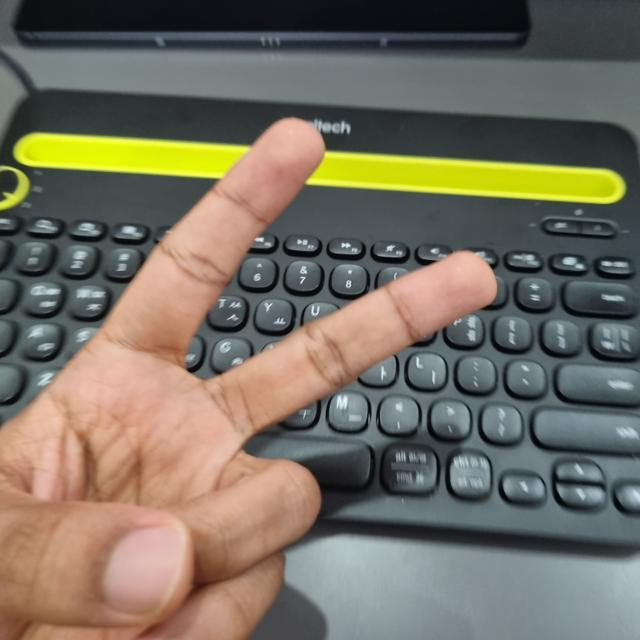Scissors: (0, 118, 490, 639)
